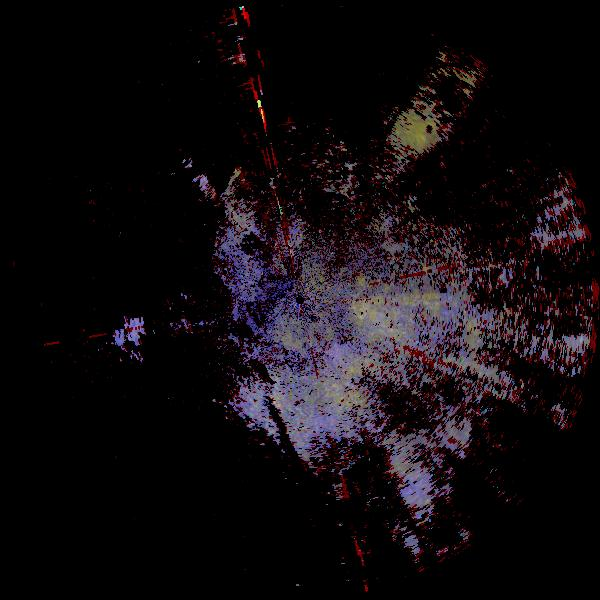roost: (375, 393, 531, 549)
